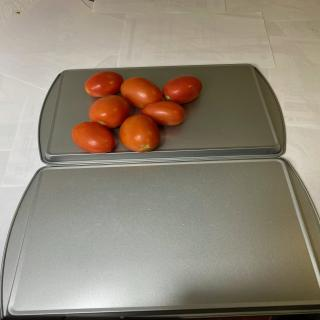Chilli: (71, 70, 203, 154)
Tomato: (119, 114, 161, 152), (88, 95, 130, 129), (71, 122, 115, 154), (120, 77, 163, 108), (162, 75, 202, 104), (140, 101, 185, 126), (84, 71, 124, 97)
